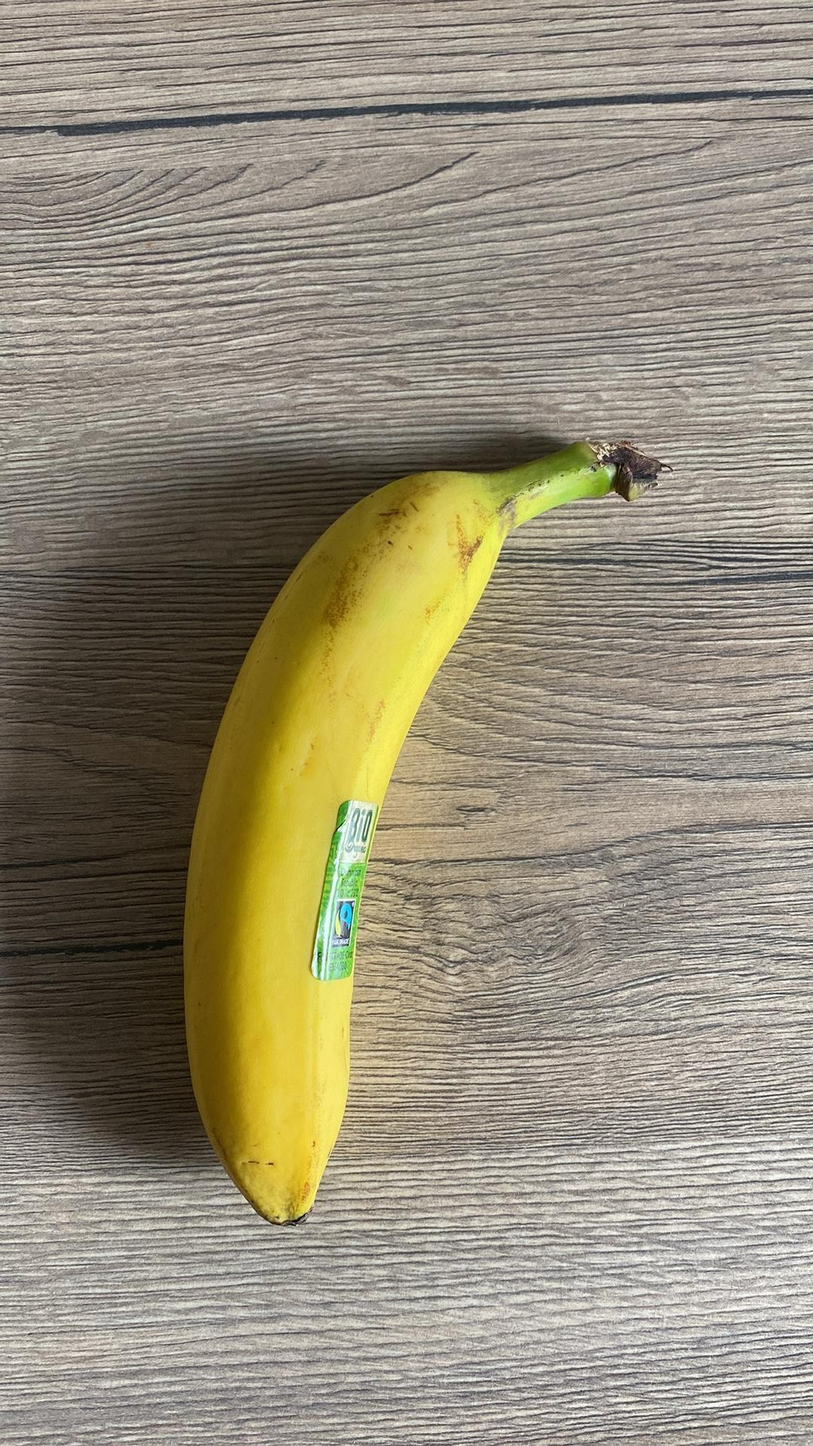banana: (166, 407, 665, 1258)
